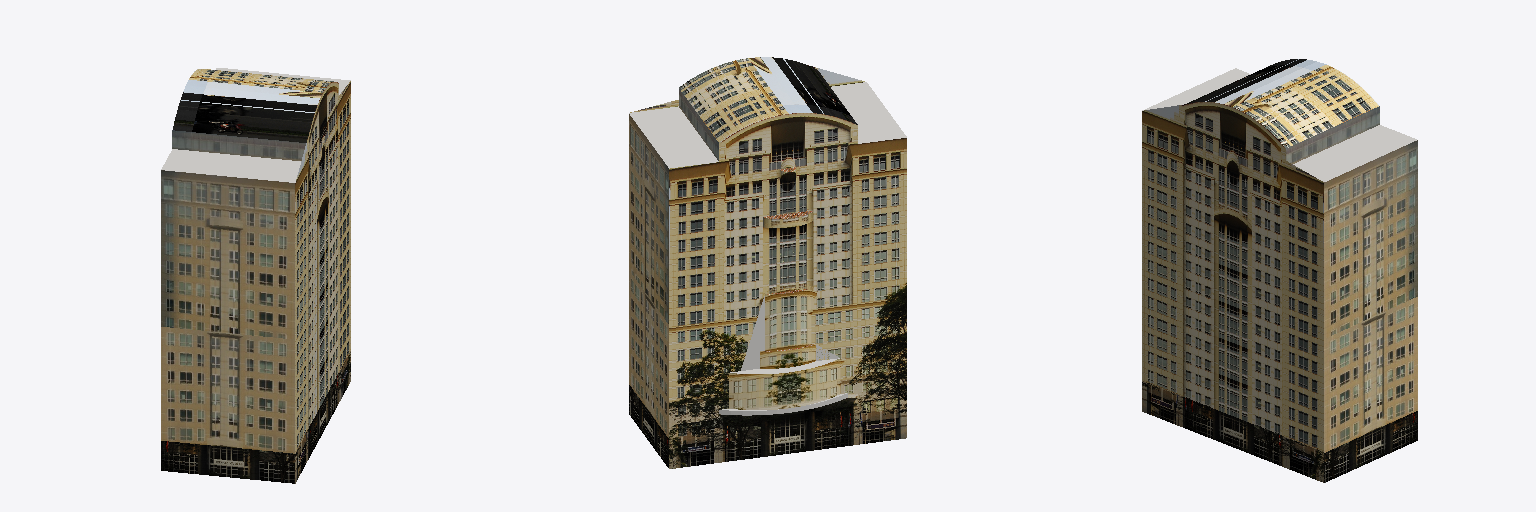
3 renders of one model, left to right at view 1: azimuth 30°, elevation 25°; view 2: azimuth 150°, elevation 25°; view 3: azimuth 270°, elevation 25°, orthographic.
Parts seen in each view (by area): view 1: Mesh1 SaiGon_Tower1 Model; view 2: Mesh1 SaiGon_Tower1 Model; view 3: Mesh1 SaiGon_Tower1 Model.
Boxes of the visible parts, <box> form: Mesh1 SaiGon_Tower1 Model: <box>161,68,350,483</box>; Mesh1 SaiGon_Tower1 Model: <box>629,57,906,468</box>; Mesh1 SaiGon_Tower1 Model: <box>1142,59,1417,482</box>.
Bounding box in the file's own units: 49.15 × 68.12 × 50.2.
74 materials, 72 textured.